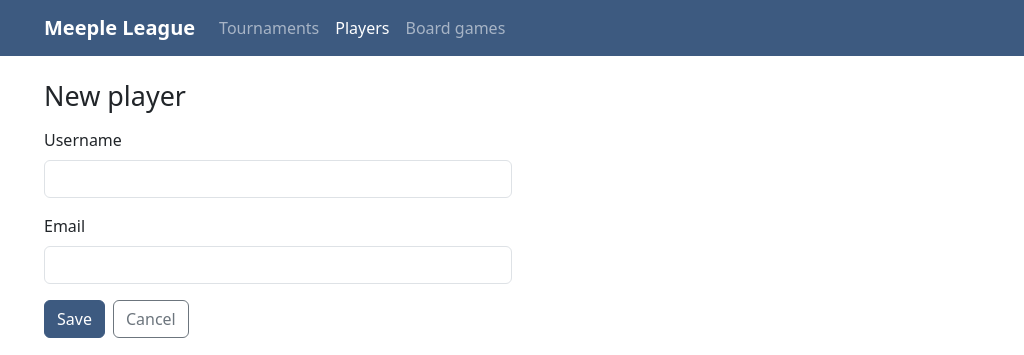
Test case: players › creates a player and goes back to the list
Type " bob " into the field labelled "Username". click: (278, 179)
box: x1=44 y1=160 x2=512 y2=198
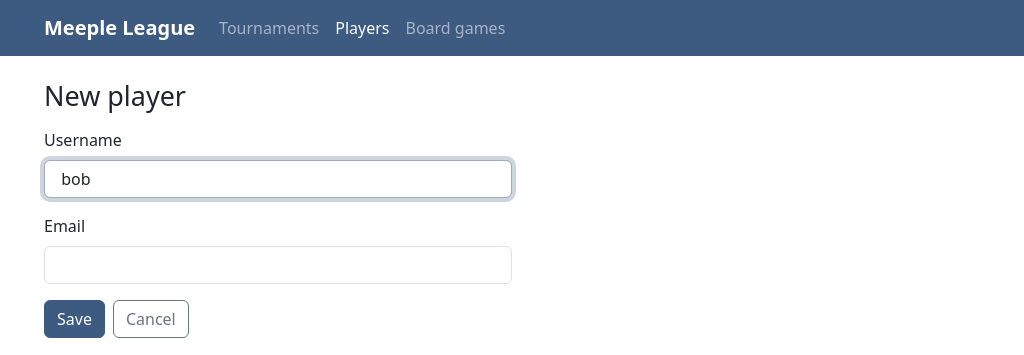
Type "bob@example.com" into the field labelled "Email". click: (278, 265)
box: x1=44 y1=246 x2=512 y2=284
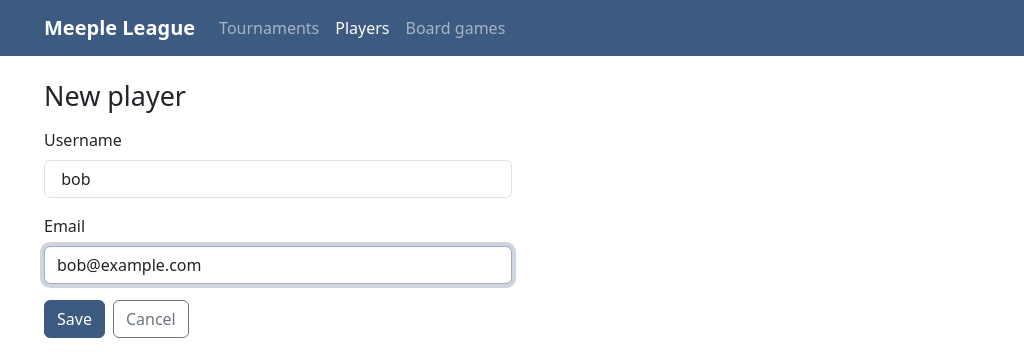
Click the button "Save". click: click(74, 319)
box: x1=44 y1=300 x2=105 y2=338
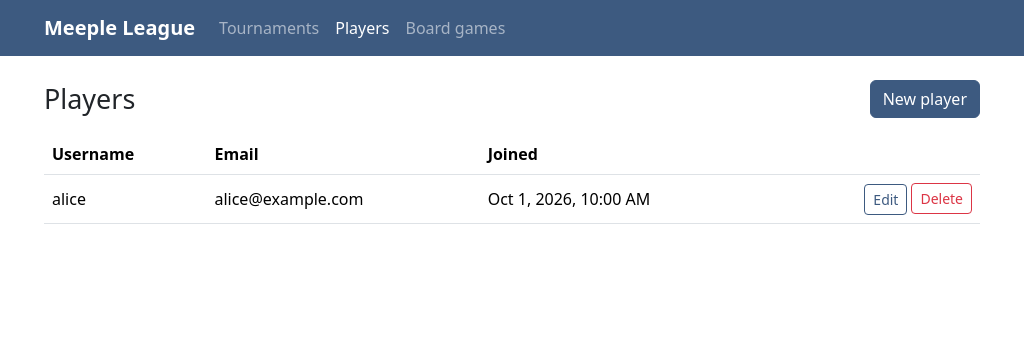
Expected: the heading "Players" is shown, x1=44 y1=83 x2=135 y2=115
